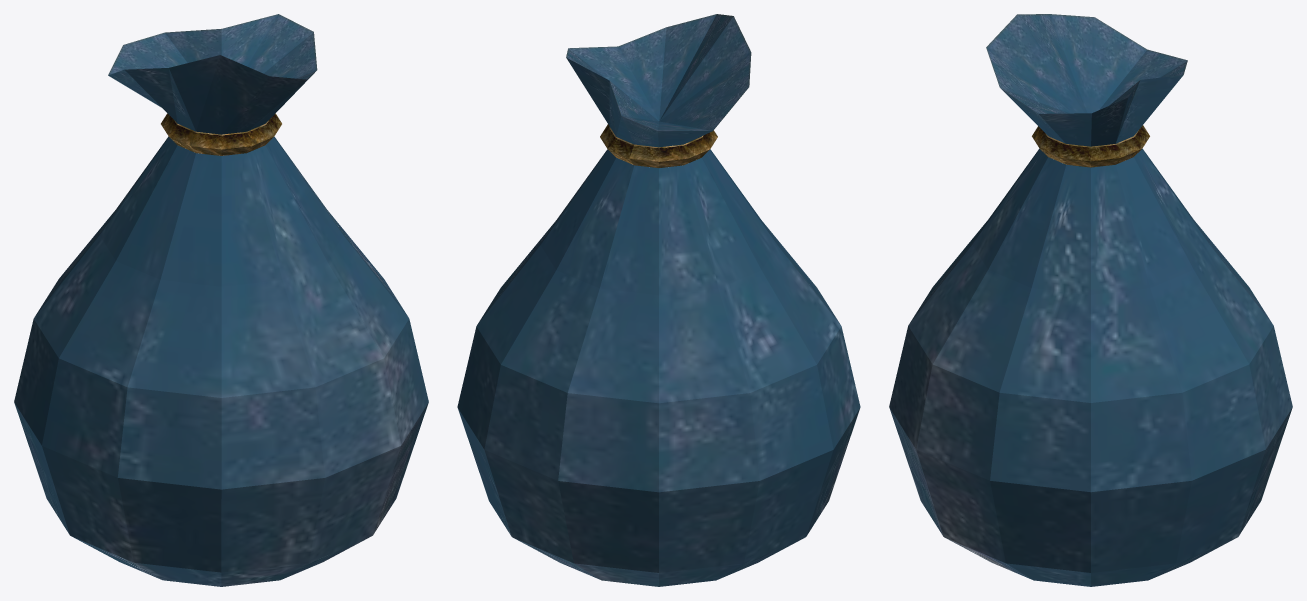
Rendered from GS_MIX_BLUE_03_SZCZAWIK.glb.
3 views of the same model, side by side, from view 1: azimuth 30°, elevation 25°; view 2: azimuth 150°, elevation 25°; view 3: azimuth 270°, elevation 25° (orthographic). The views are drawn at different scales.
Visible parts, largest first — view 1: GS_MIX_BLUE_03_SZCZAWIK; view 2: GS_MIX_BLUE_03_SZCZAWIK; view 3: GS_MIX_BLUE_03_SZCZAWIK.
Part boxes in pixels (left/top/right/bottom): GS_MIX_BLUE_03_SZCZAWIK: left=14, top=14, right=428, bottom=586; GS_MIX_BLUE_03_SZCZAWIK: left=457, top=14, right=860, bottom=586; GS_MIX_BLUE_03_SZCZAWIK: left=889, top=14, right=1292, bottom=586.
Bounding box in the file's own units: 0.2801 × 0.3871 × 0.2801.
2 materials, 2 textured.
